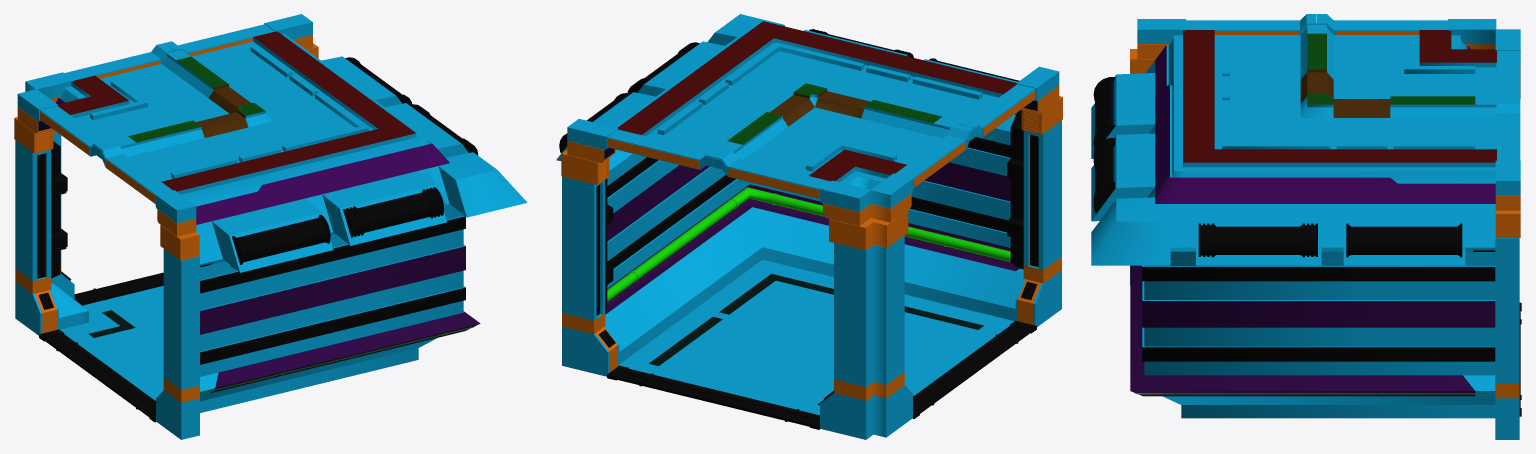
File: sf_gguck.fbx
3 renders of one model, left to right at view 1: azimuth 30°, elevation 25°; view 2: azimuth 150°, elevation 25°; view 3: azimuth 270°, elevation 25°, orthographic. The views are drawn at different scales.
Parts seen in each view (by area): view 1: Cylinder004; view 2: Cylinder004; view 3: Cylinder004.
Part boxes in pixels (x1,y1,x2,y2): Cylinder004: (14, 14, 527, 439); Cylinder004: (556, 14, 1062, 439); Cylinder004: (1091, 14, 1521, 439).
Size of the model in its own units: 83.3 by 55.98 by 83.3.
